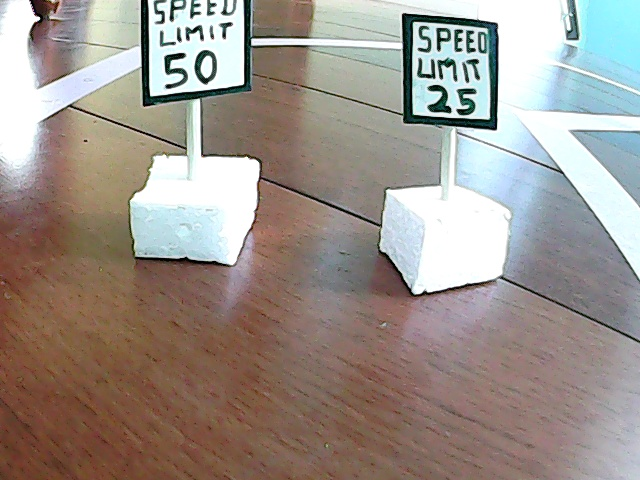speed_25: (385, 11, 524, 281)
speed_50: (129, 1, 277, 258)
